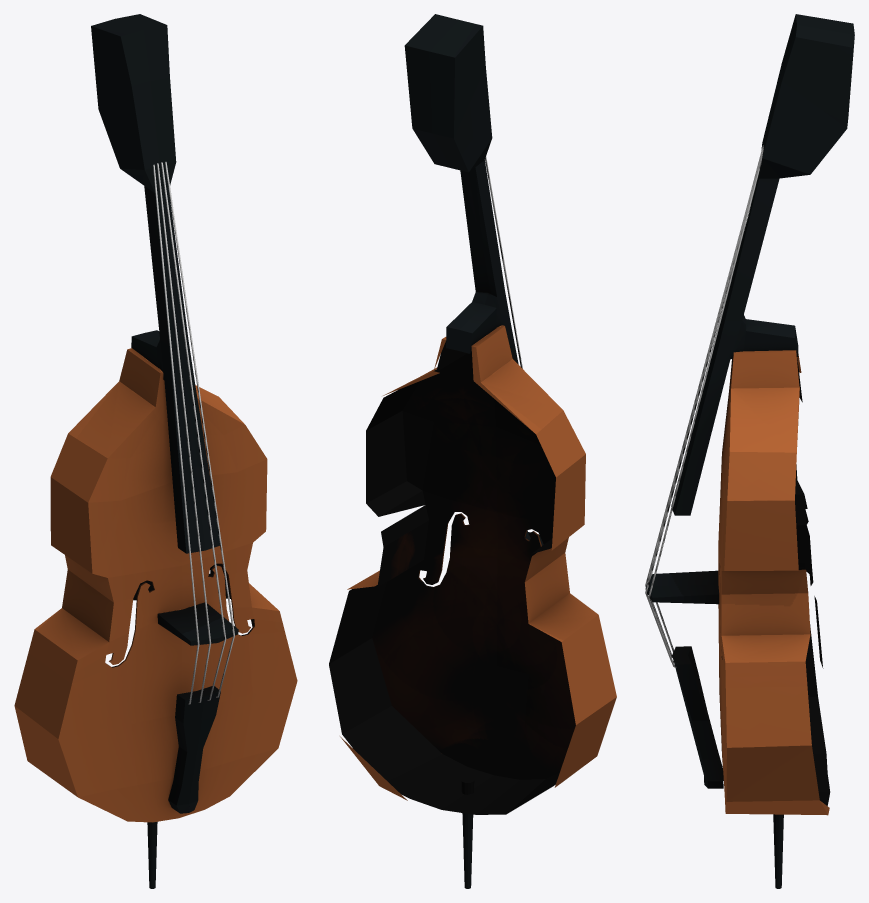
Rendered from bassVio.glb.
3 views of the same model, side by side, from view 1: azimuth 30°, elevation 25°; view 2: azimuth 150°, elevation 25°; view 3: azimuth 270°, elevation 25° (orthographic). The views are drawn at different scales.
Visible parts, largest first — view 1: Cube_Hollow; view 2: Cube_Hollow; view 3: Cube_Hollow.
Part boxes in pixels (x1,y1,x2,y2): Cube_Hollow: (14, 14, 297, 888); Cube_Hollow: (329, 14, 616, 888); Cube_Hollow: (645, 14, 854, 888).
Bounding box in the file's own units: 2.93 × 9.8 × 2.16.
Materials: 1 (1 with a texture image).
